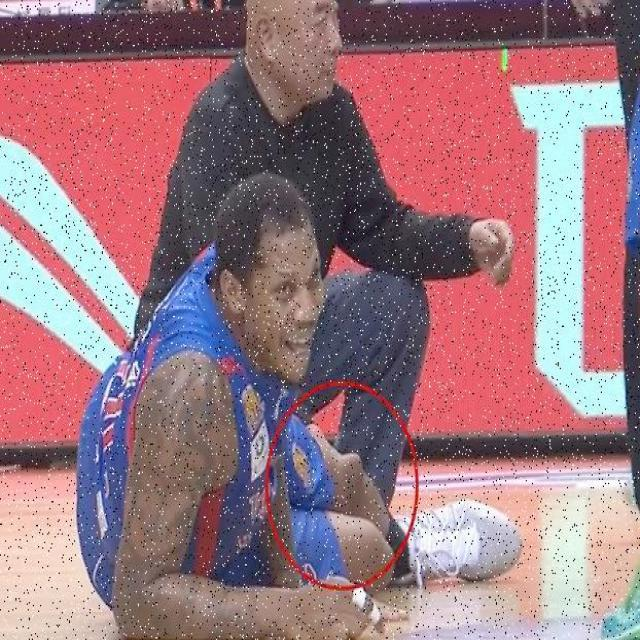fall: (72, 237, 476, 601)
